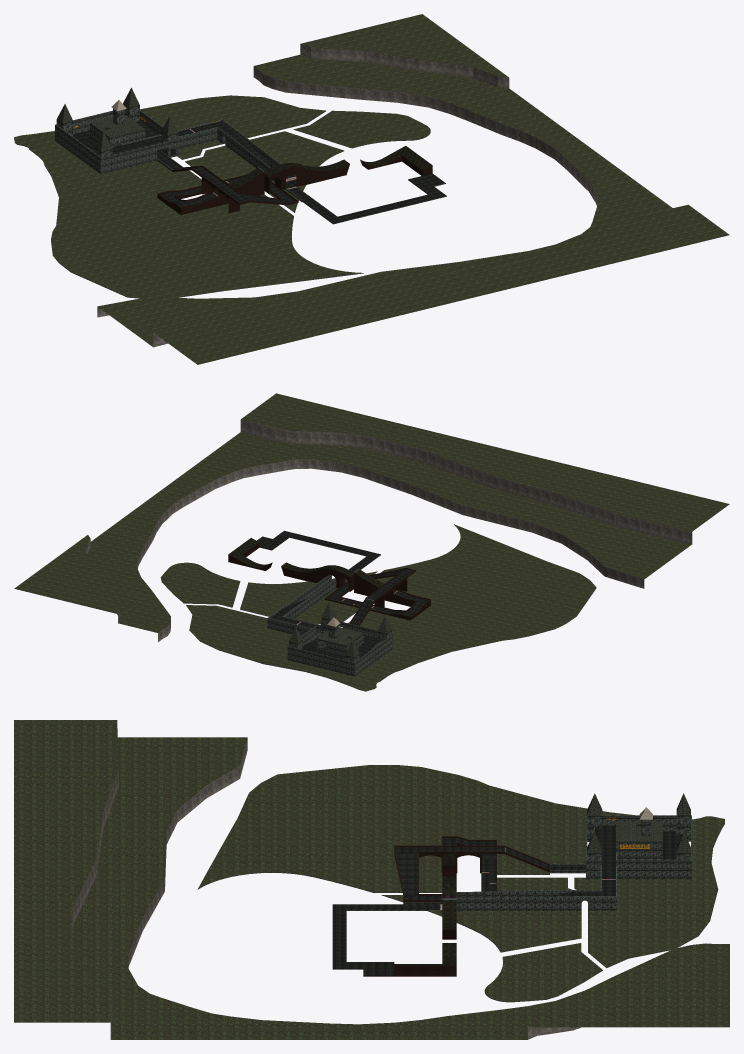
3 views of the same model, one above another, from view 1: azimuth 30°, elevation 25°; view 2: azimuth 150°, elevation 25°; view 3: azimuth 270°, elevation 25° (orthographic). The views are drawn at different scales.
Visible parts, largest first — view 1: Blackdown_Hold_Main-grass, Blackdown_Hold_Main-paroi, Blackdown_Hold_Main-mur1, Blackdown_Hold_Main-road1, Blackdown_Hold_Main-mur2, Blackdown_Hold_Main-roof, Blackdown_Hold_Main-road2, Blackdown_Hold_Main-wall2; view 2: Blackdown_Hold_Main-grass, Blackdown_Hold_Main-paroi, Blackdown_Hold_Main-mur1, Blackdown_Hold_Main-road1, Blackdown_Hold_Main-mur2, Blackdown_Hold_Main-road2, Blackdown_Hold_Main-roof, Blackdown_Hold_Main-wall2; view 3: Blackdown_Hold_Main-grass, Blackdown_Hold_Main-mur1, Blackdown_Hold_Main-road1, Blackdown_Hold_Main-paroi, Blackdown_Hold_Main-mur2, Blackdown_Hold_Main-roof, Blackdown_Hold_Main-road2, Blackdown_Hold_Main-wall2.
Boxes of the visible parts, x1,y1,x2,y2 form: Blackdown_Hold_Main-grass: (14,14,729,364); Blackdown_Hold_Main-paroi: (97,44,598,347); Blackdown_Hold_Main-mur1: (14,110,446,298); Blackdown_Hold_Main-road1: (73,121,446,224); Blackdown_Hold_Main-mur2: (157,156,432,215); Blackdown_Hold_Main-roof: (57,87,177,151); Blackdown_Hold_Main-road2: (213,146,432,195); Blackdown_Hold_Main-wall2: (56,103,178,157); Blackdown_Hold_Main-grass: (14,393,729,690); Blackdown_Hold_Main-paroi: (85,419,692,642); Blackdown_Hold_Main-mur1: (162,525,596,691); Blackdown_Hold_Main-road1: (257,530,428,659); Blackdown_Hold_Main-mur2: (228,537,430,625); Blackdown_Hold_Main-road2: (228,538,397,593); Blackdown_Hold_Main-roof: (289,603,392,657); Blackdown_Hold_Main-wall2: (288,616,392,662); Blackdown_Hold_Main-grass: (14,720,729,1039); Blackdown_Hold_Main-mur1: (197,815,724,1002); Blackdown_Hold_Main-road1: (332,825,681,975); Blackdown_Hold_Main-paroi: (70,738,581,1039); Blackdown_Hold_Main-mur2: (363,836,549,976); Blackdown_Hold_Main-roof: (587,793,690,853); Blackdown_Hold_Main-road2: (394,856,456,966); Blackdown_Hold_Main-wall2: (587,815,690,859).
Bounding box in the file's own units: 169112 × 13798 × 169231.
16 materials, 16 textured.
